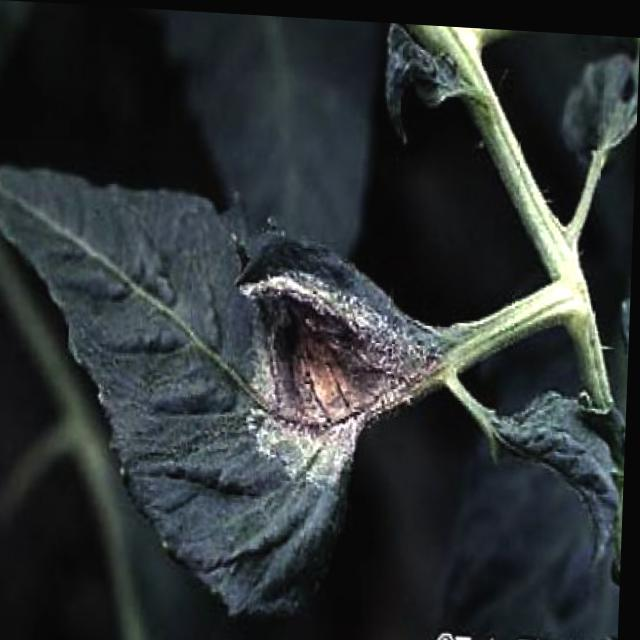Tomato mosaic virus leaf: (0, 132, 451, 616)
